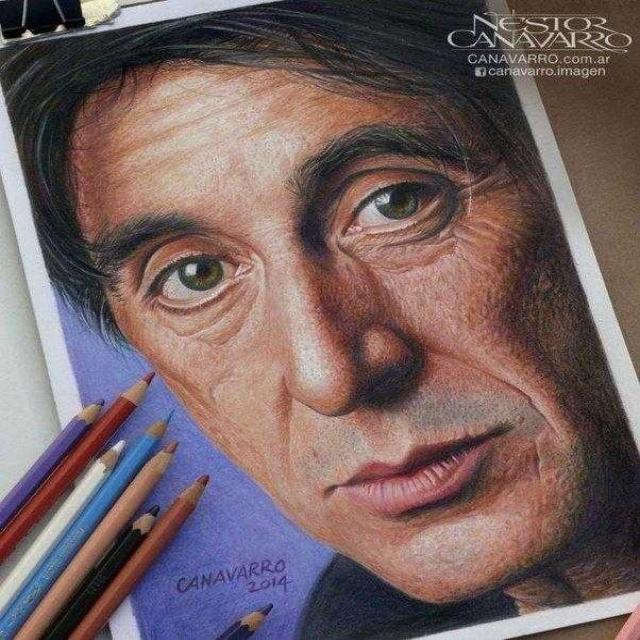pencil: (0, 401, 196, 639), (7, 423, 199, 639), (56, 468, 229, 639), (0, 427, 134, 624), (40, 494, 174, 639), (0, 384, 126, 531), (202, 594, 285, 639)
